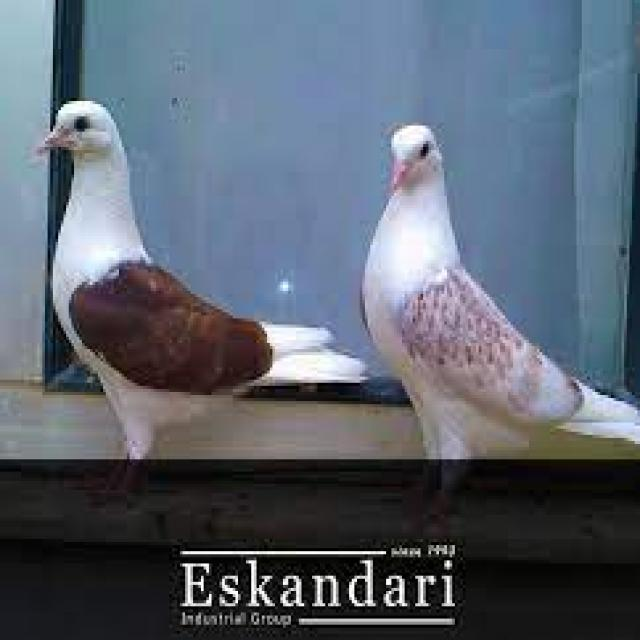bird: (29, 97, 371, 460), (356, 120, 639, 458)
